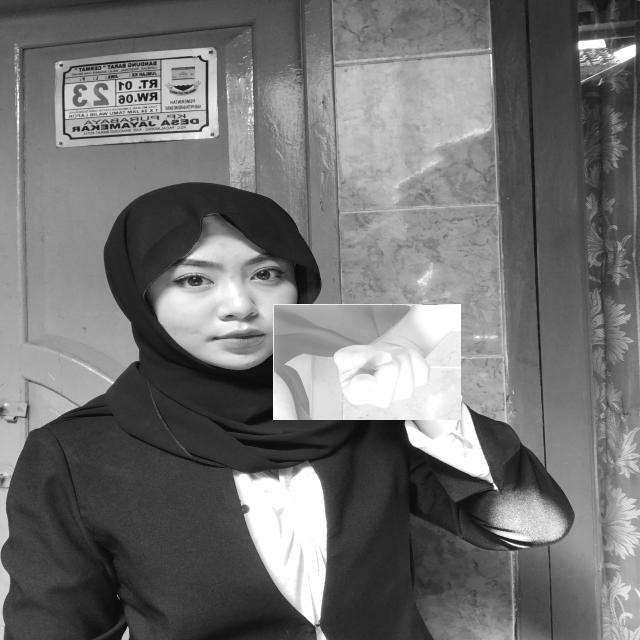kamu: (273, 304, 461, 420)
